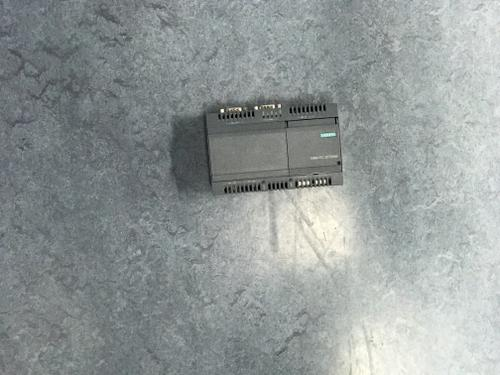device: (205, 103, 343, 196)
